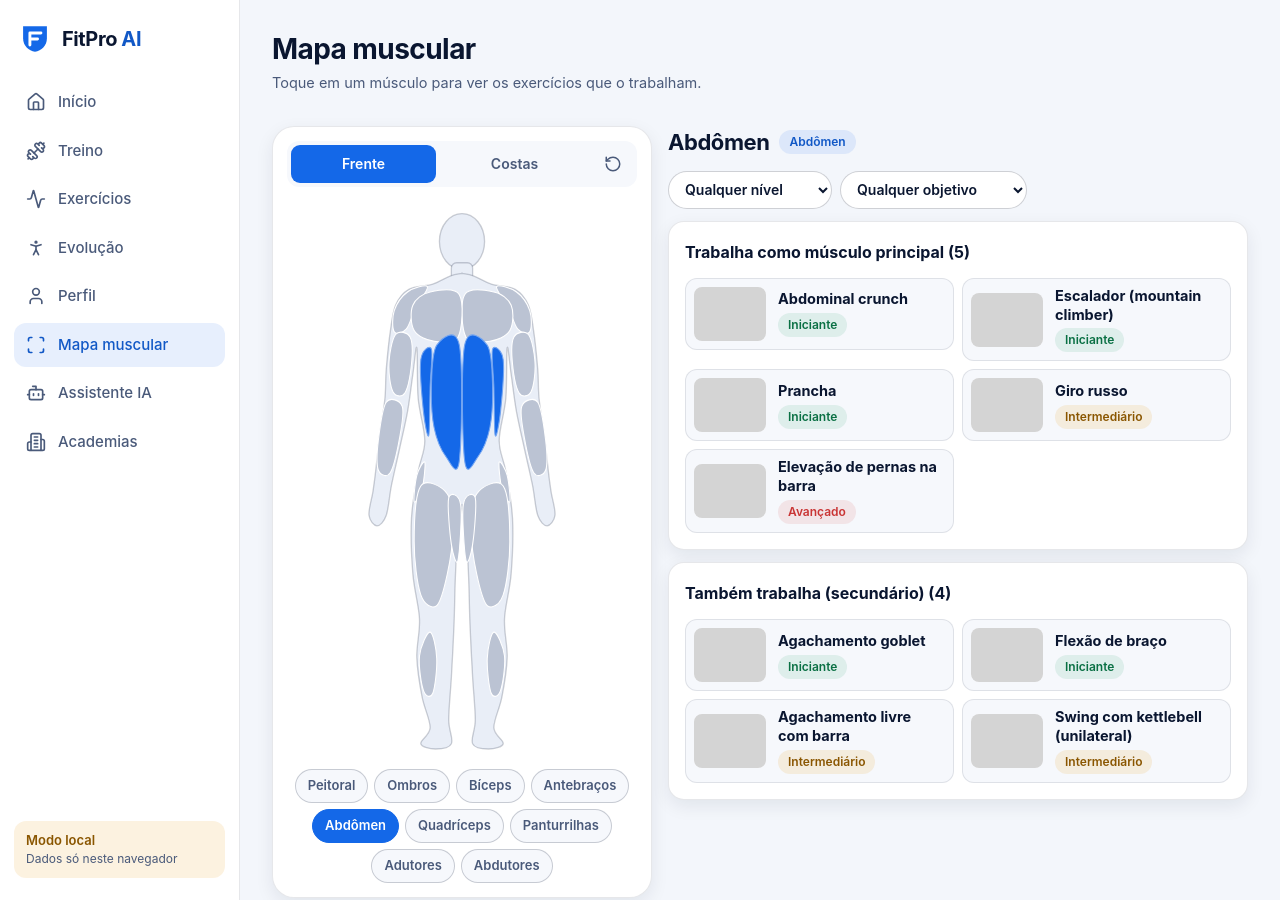
Test case: mapa muscular › filtro de nível reduz a lista
Expected: the heading "Abdômen" is shown, [668,126,770,159]
Expected: the link "Elevação de pernas na barra Avançado" is shown, [685,449,954,533]
Select "Iniciante" in the 1st dropdown named "Dificuldade" at (750, 190), box [668,171,832,209]
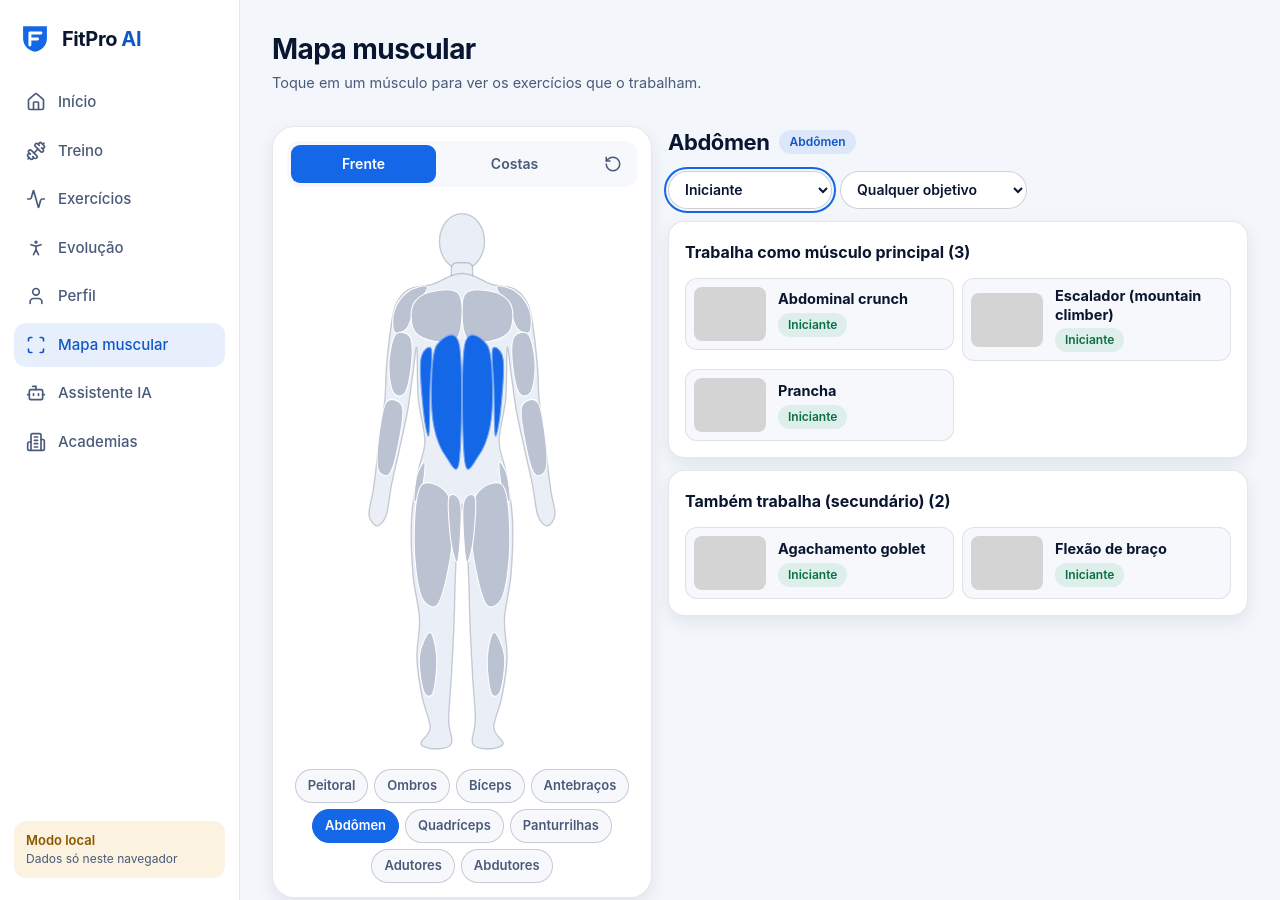
Result: the link "Elevação de pernas na barra" is gone
